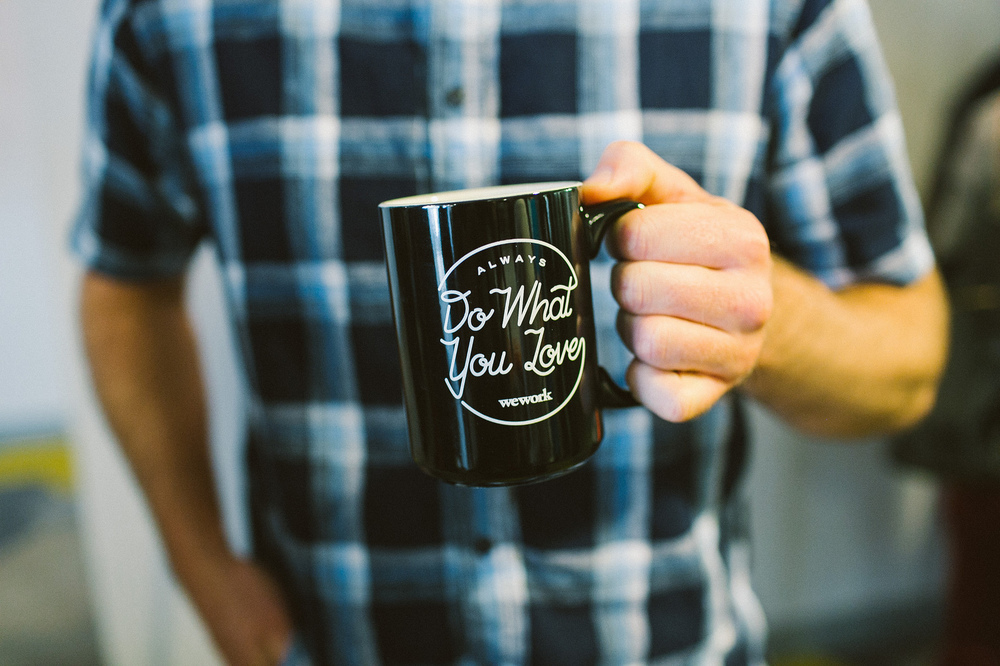wework: (494, 385, 556, 410)
